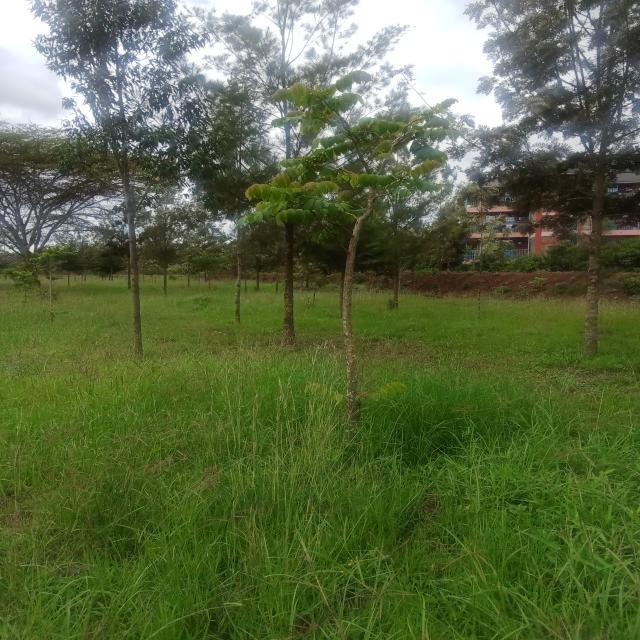Polyscias Kikuyensis: (235, 80, 481, 426)
